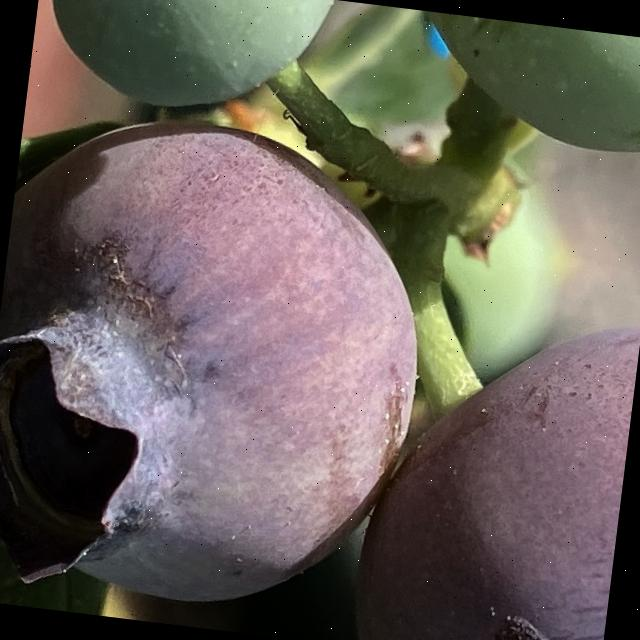Blueberries: (0, 102, 448, 634), (345, 289, 640, 640)
